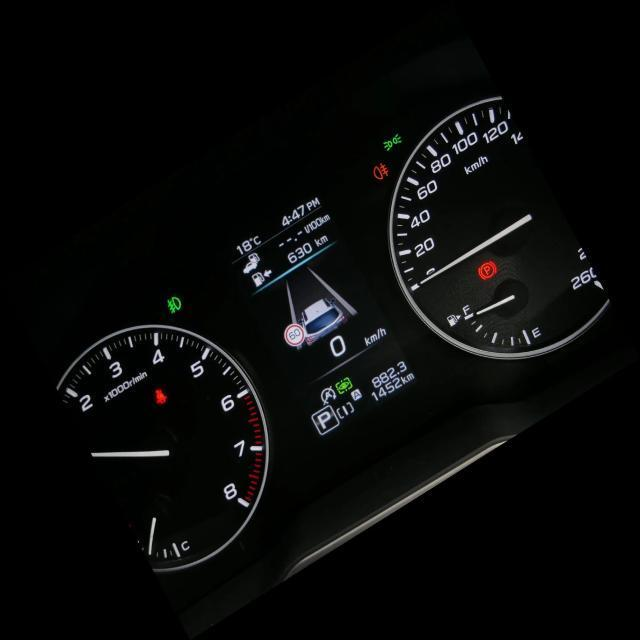Seat Belt: (154, 386, 168, 409)
